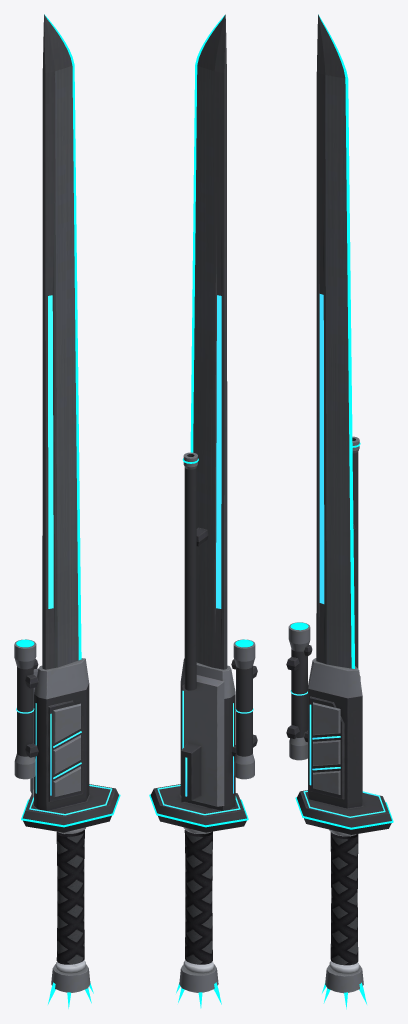
The picture shows the model from 3 angles, left to right: view 1: azimuth 30°, elevation 25°; view 2: azimuth 150°, elevation 25°; view 3: azimuth 330°, elevation 25°; orthographic projection.
Parts seen in each view (by area): view 1: kat_blade, kat_shin, kat_dark, kat_plate, kat_wrap, glow_kat_line, glow_kat_edge, glow_kat_rim, kat_pale; view 2: kat_blade, kat_dark, kat_shin, kat_plate, kat_wrap, glow_kat_line, glow_kat_edge, glow_kat_rim, kat_pale; view 3: kat_blade, kat_dark, kat_shin, kat_plate, kat_wrap, glow_kat_edge, glow_kat_line, glow_kat_rim, kat_pale.
Part boxes in pixels (bbox=[...]): kat_blade: bbox=[55, 66, 78, 667]; kat_shin: bbox=[42, 14, 72, 669]; kat_dark: bbox=[17, 659, 118, 832]; kat_plate: bbox=[14, 639, 90, 992]; kat_wrap: bbox=[56, 830, 84, 964]; glow_kat_line: bbox=[16, 295, 112, 815]; glow_kat_edge: bbox=[44, 14, 81, 659]; glow_kat_rim: bbox=[16, 639, 120, 1008]; kat_pale: bbox=[55, 827, 85, 973]; kat_blade: bbox=[193, 65, 214, 667]; kat_dark: bbox=[150, 454, 257, 832]; kat_shin: bbox=[197, 14, 227, 669]; kat_plate: bbox=[179, 452, 255, 992]; kat_wrap: bbox=[184, 830, 212, 964]; glow_kat_line: bbox=[157, 295, 253, 815]; glow_kat_edge: bbox=[190, 15, 224, 452]; glow_kat_rim: bbox=[149, 458, 253, 1008]; kat_pale: bbox=[183, 827, 213, 973]; kat_blade: bbox=[325, 75, 351, 668]; kat_dark: bbox=[286, 438, 391, 834]; kat_shin: bbox=[316, 14, 345, 664]; kat_plate: bbox=[288, 436, 363, 993]; kat_wrap: bbox=[330, 832, 358, 965]; glow_kat_edge: bbox=[318, 14, 354, 668]; glow_kat_line: bbox=[290, 294, 385, 817]; glow_kat_rim: bbox=[290, 442, 393, 1009]; kat_pale: bbox=[329, 829, 359, 973].
Bounding box in the file's own units: 0.1508 × 1.37 × 0.0942.
Materials: 9 (6 with a texture image).
